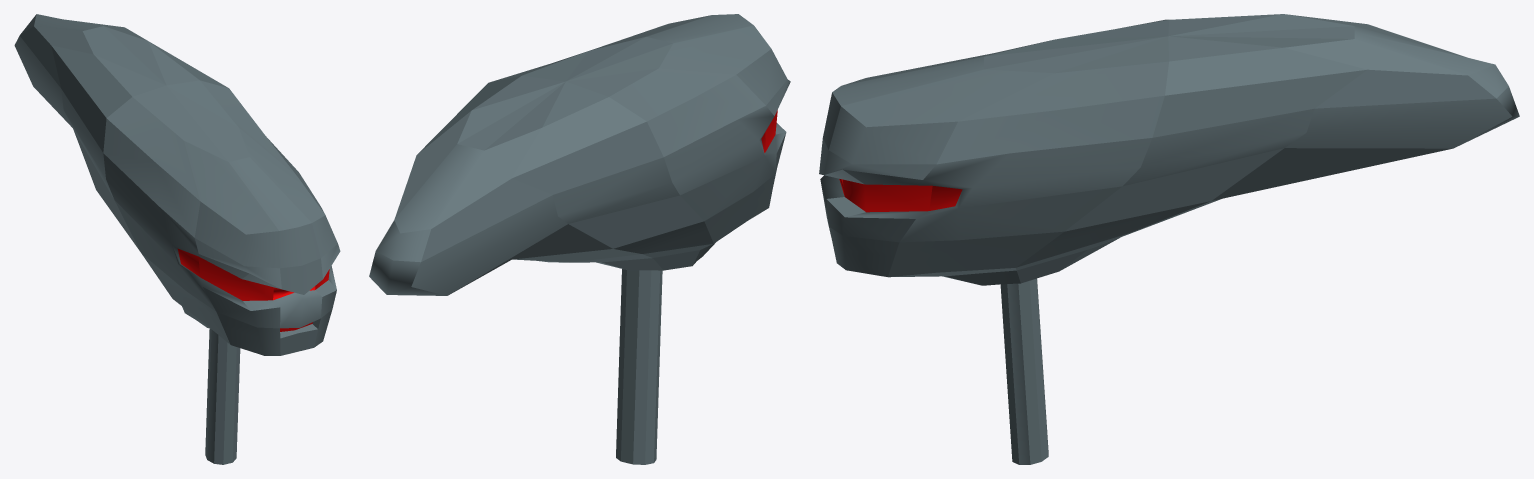
The model's file is robot_head_v2.fbx.
3 renders of one model, left to right at view 1: azimuth 30°, elevation 25°; view 2: azimuth 150°, elevation 25°; view 3: azimuth 270°, elevation 25°, orthographic. The views are drawn at different scales.
Visible parts, largest first — view 1: pCylinder1; view 2: pCylinder1; view 3: pCylinder1.
Part boxes in pixels (x1,y1,x2,y2): pCylinder1: (14, 14, 340, 464); pCylinder1: (369, 14, 790, 464); pCylinder1: (819, 14, 1519, 464).
Size of the model in its own units: 1.52 by 3.4 by 5.04.
